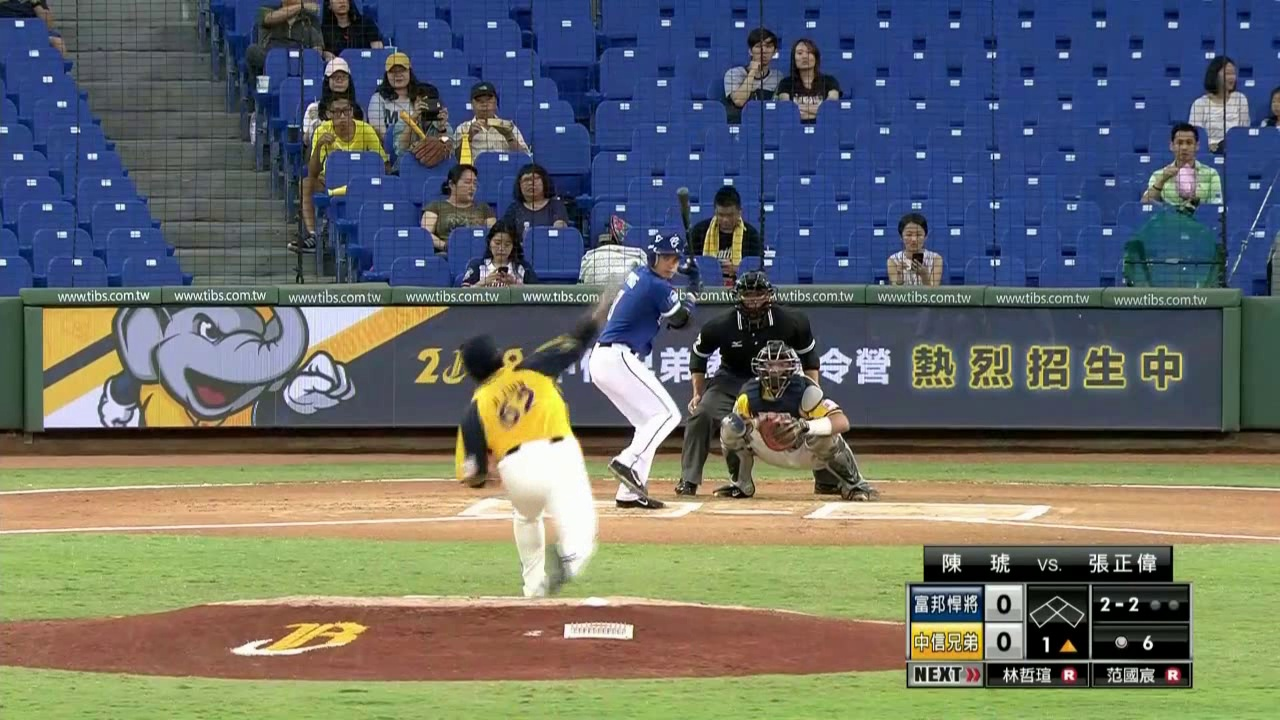ball: (616, 268, 627, 284)
base: (1024, 590, 1088, 633)
bat: (675, 187, 697, 271)
out: (1148, 594, 1187, 616)
score1: (988, 588, 1019, 621)
score2: (987, 624, 1017, 656)
session: (1032, 634, 1085, 656)
strikeball: (1097, 591, 1141, 617)
total: (1108, 628, 1159, 656)
